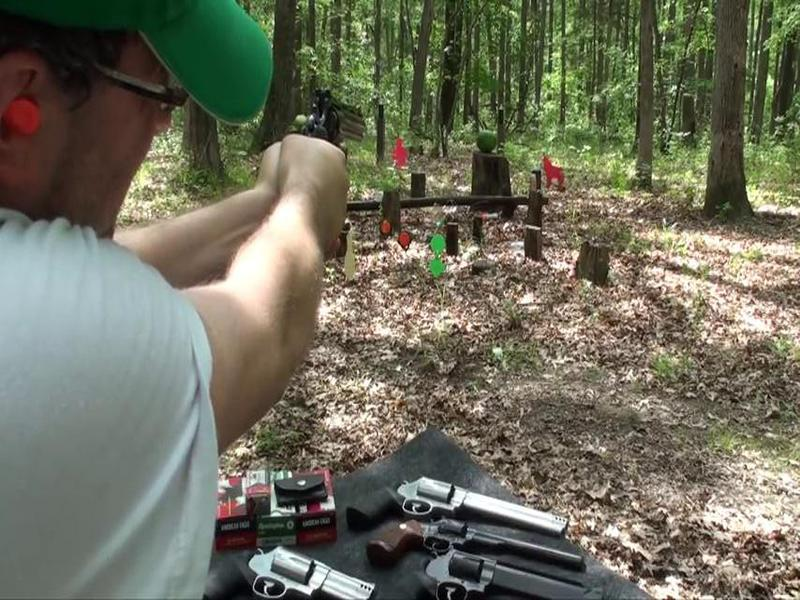Revolver: (288, 77, 375, 197)
